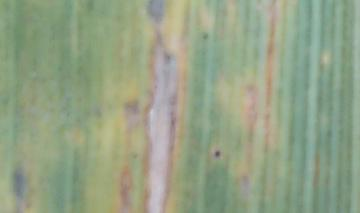tarspot: (119, 165, 134, 213), (144, 1, 166, 27), (11, 167, 25, 198), (122, 98, 141, 116), (151, 27, 165, 49), (84, 1, 96, 14), (163, 49, 172, 66), (213, 147, 221, 160), (200, 31, 208, 41), (131, 151, 138, 161)
